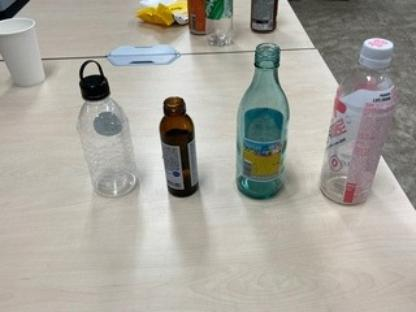Glass Bottle: (234, 39, 290, 201)
Others: (160, 95, 200, 200)
Plastic Bottle: (319, 35, 399, 205), (78, 57, 140, 198)
